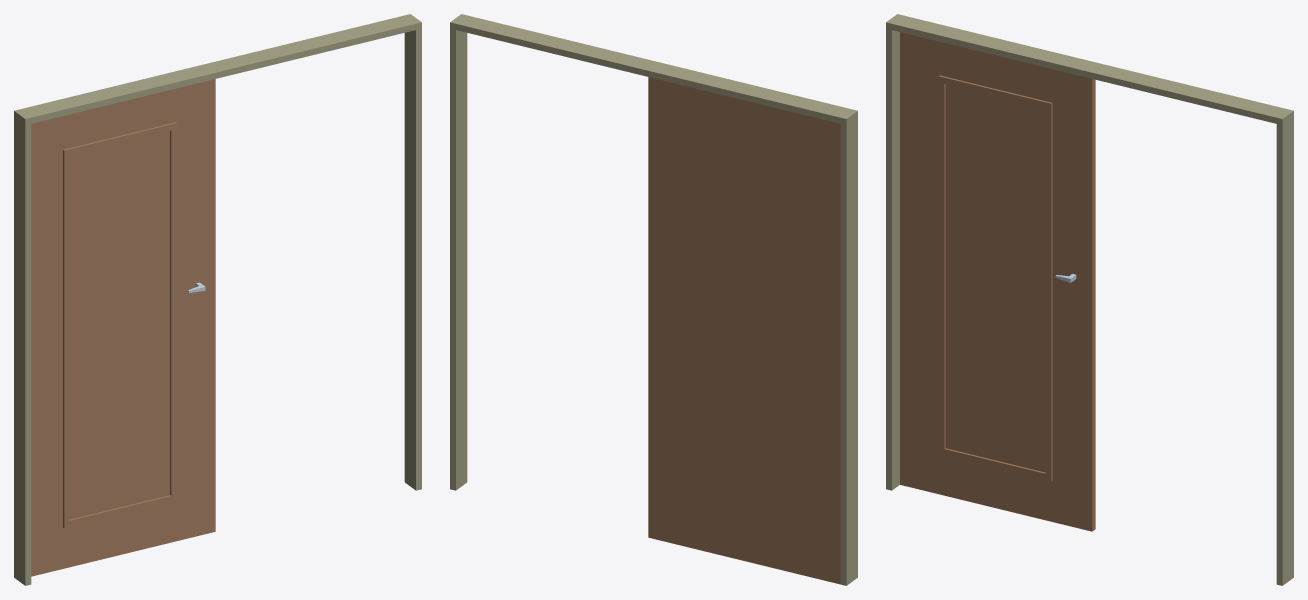
Rendered from FrontDoor.fbx.
3 renders of one model, left to right at view 1: azimuth 30°, elevation 25°; view 2: azimuth 150°, elevation 25°; view 3: azimuth 330°, elevation 25°, orthographic.
Visible parts, largest first — view 1: DoorPanel1m_2_2, DoorFrames1m_2_2; view 2: DoorPanel1m_2_2, DoorFrames1m_2_2; view 3: DoorPanel1m_2_2, DoorFrames1m_2_2.
Boxes of the visible parts, x1,y1,x2,y2 form: DoorPanel1m_2_2: [31, 79, 215, 576]; DoorFrames1m_2_2: [14, 14, 421, 585]; DoorPanel1m_2_2: [648, 77, 840, 584]; DoorFrames1m_2_2: [450, 14, 857, 585]; DoorPanel1m_2_2: [900, 32, 1095, 531]; DoorFrames1m_2_2: [886, 14, 1293, 585].
Size of the model in its own units: 2 by 2.25 by 0.1.
